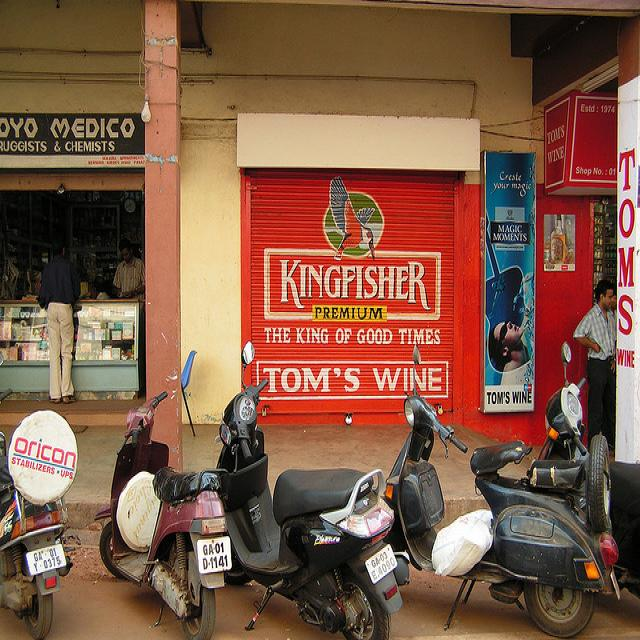motor: (383, 342, 622, 638), (215, 341, 411, 640), (93, 391, 231, 640), (537, 341, 640, 600), (0, 411, 81, 640)
